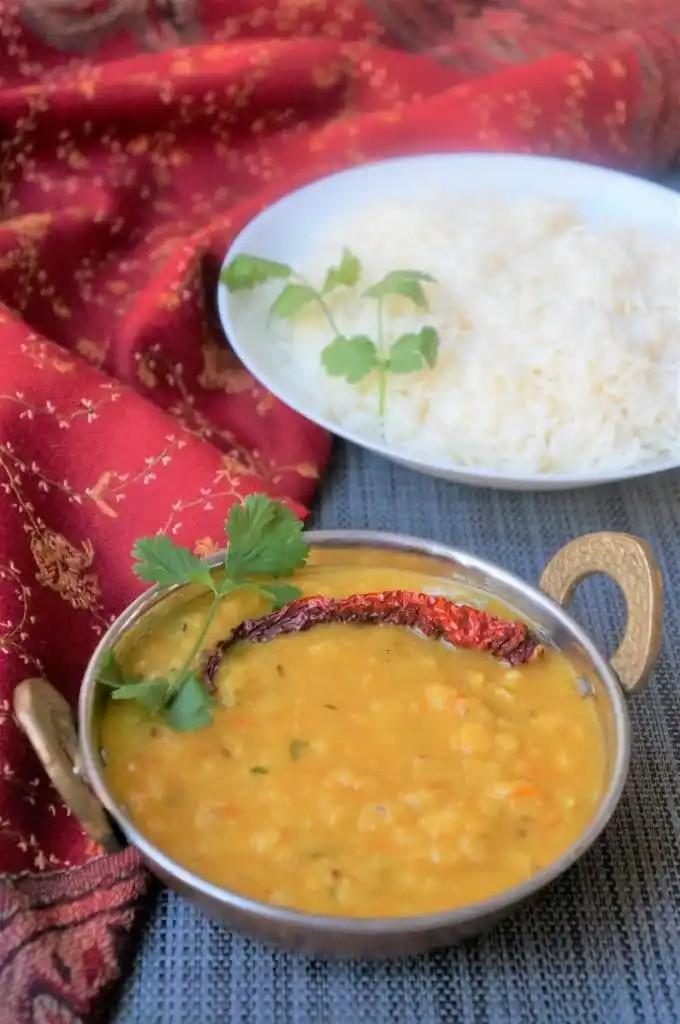Dal: (103, 564, 602, 913)
WhiteRice: (288, 180, 680, 474)
